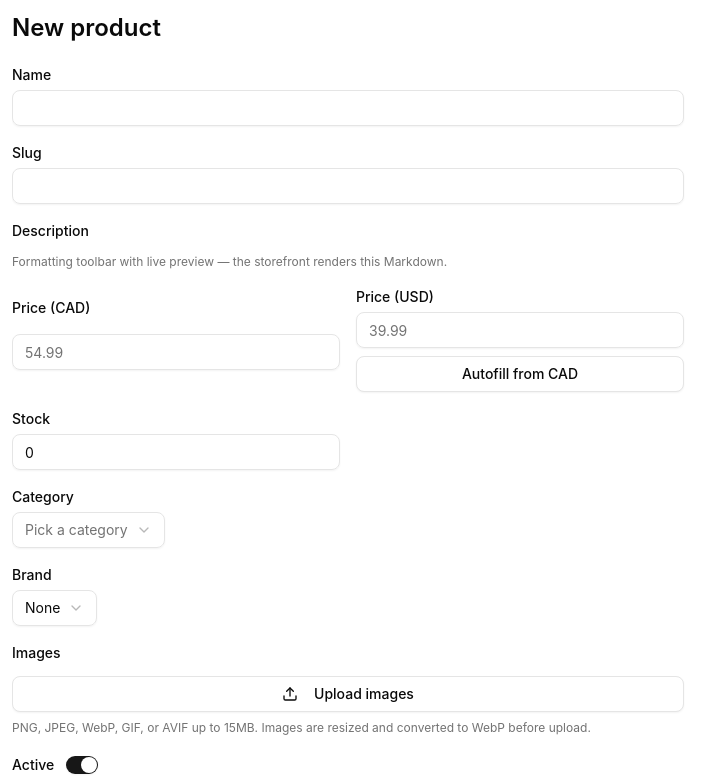
Scenario: ProductFormPage (create) › auto-generates the slug from the name
Type "Organic Cotton Tee" into the field labelled "Name" at (348,108), box left=12, top=90, right=684, bottom=126
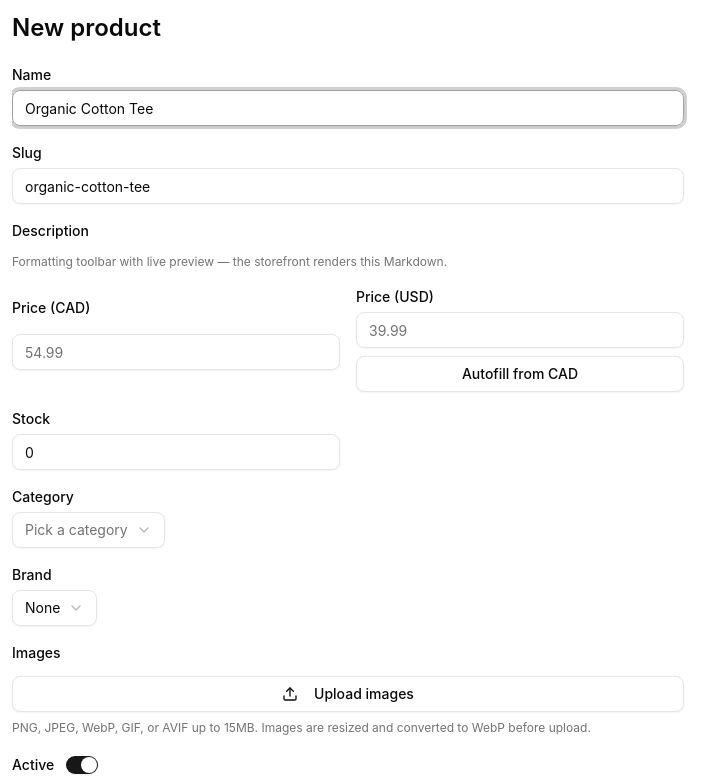
expect the field labelled "Slug" holds "organic-cotton-tee": met, box left=12, top=168, right=684, bottom=204
